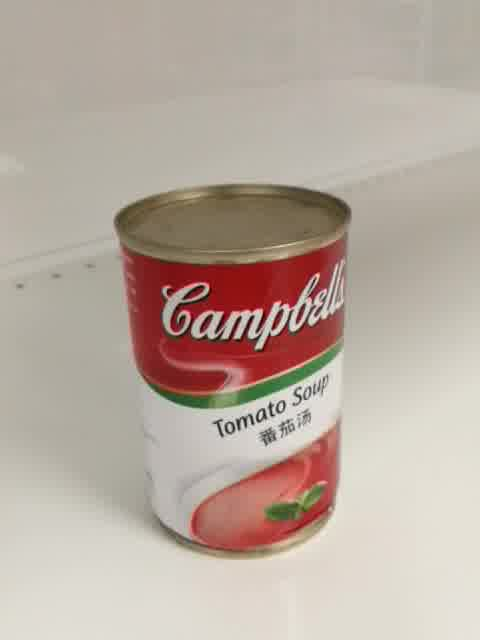tomatosoup: (112, 183, 355, 562)
